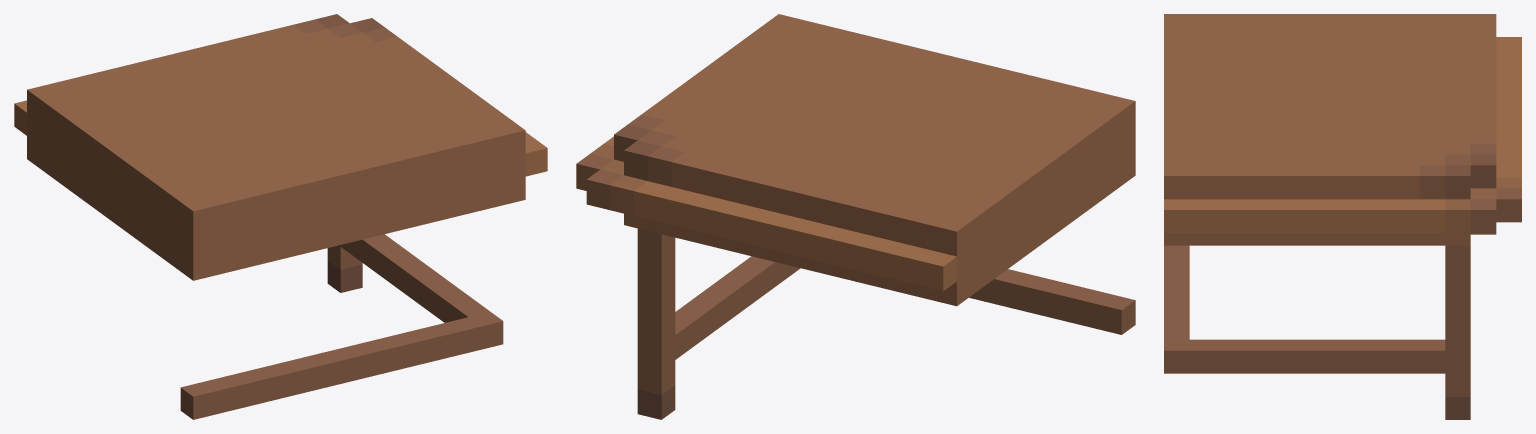
The model's file is Interior_Furniture-29.obj.
3 views of the same model, side by side, from view 1: azimuth 30°, elevation 25°; view 2: azimuth 150°, elevation 25°; view 3: azimuth 270°, elevation 25° (orthographic). The views are drawn at different scales.
Bounding box in the file's own units: 1.6 × 1.1 × 1.4.
1 material, 1 textured.
